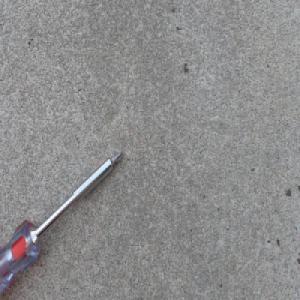Screwdriver: (0, 148, 125, 296)
